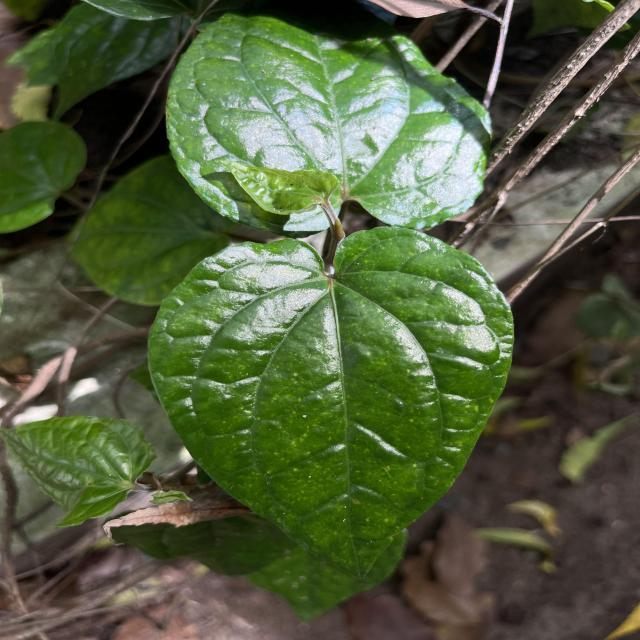Piper betle: (142, 223, 520, 582)
